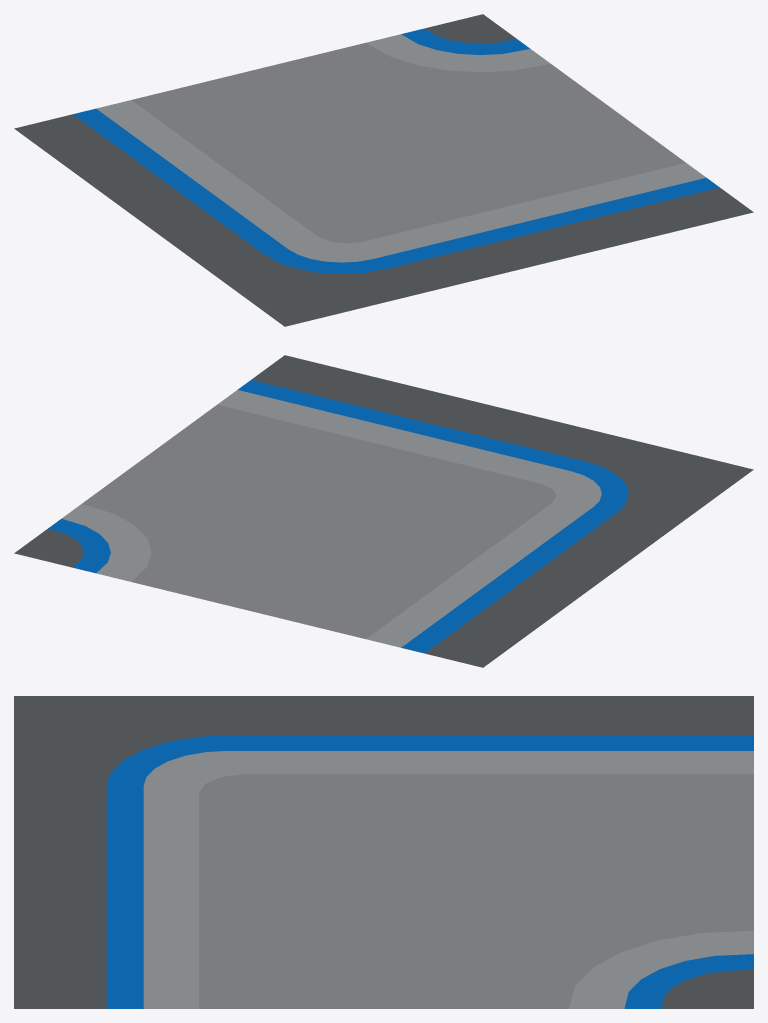
Rendered from Ceiling_type_B_041.fbx.
The picture shows the model from 3 angles, top to bottom: view 1: azimuth 30°, elevation 25°; view 2: azimuth 150°, elevation 25°; view 3: azimuth 270°, elevation 25°; orthographic projection. The views are drawn at different scales.
Visible parts, largest first — view 1: Ceiling_type_B_041; view 2: Ceiling_type_B_041; view 3: Ceiling_type_B_041.
Part boxes in pixels (box(x1,y1,x2,y2)): Ceiling_type_B_041: box(14, 14, 753, 326); Ceiling_type_B_041: box(14, 355, 753, 667); Ceiling_type_B_041: box(14, 696, 753, 1008).
Size of the model in its own units: 400 by 400 by 1.2.
